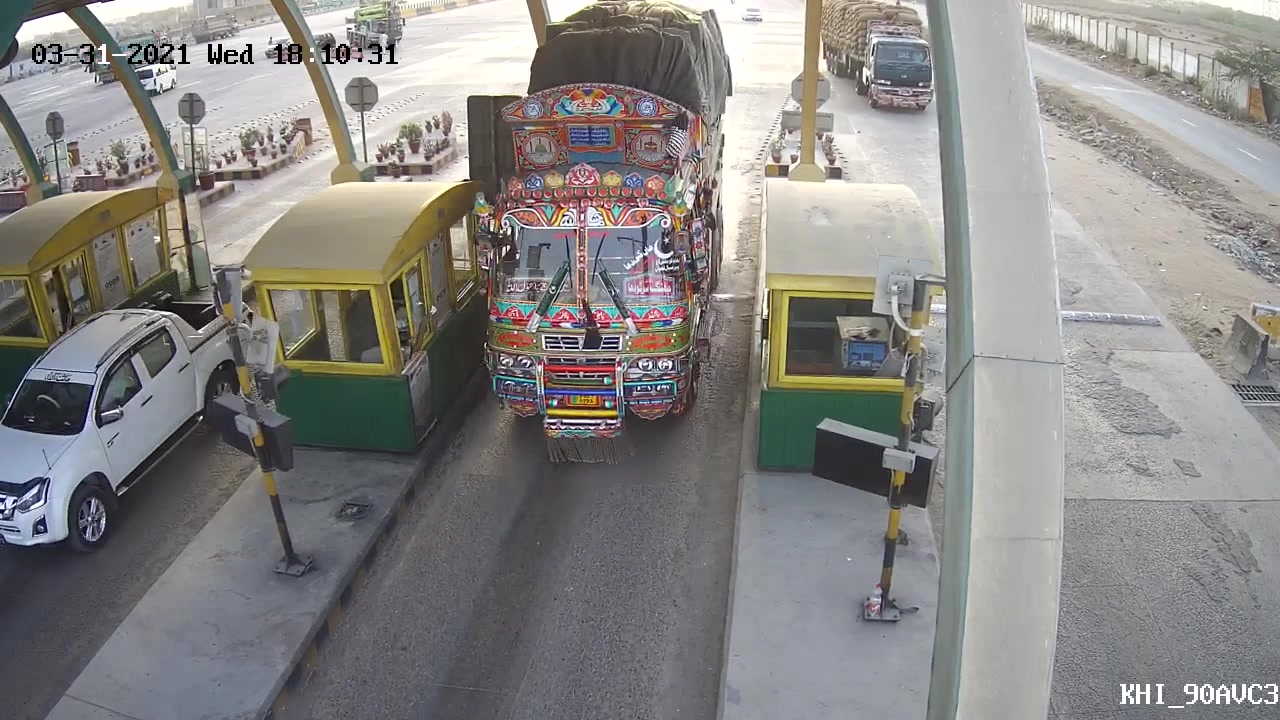F5: (458, 42, 738, 475)
